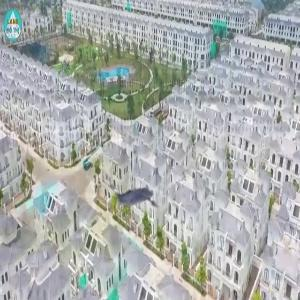drone: (93, 155, 181, 243)
